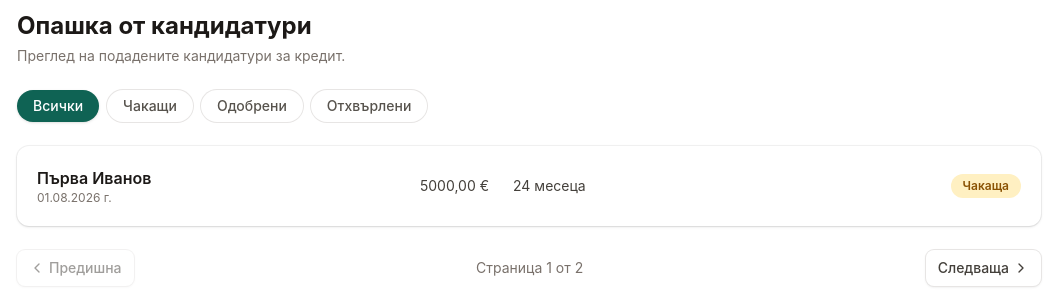
Test: AdminQueuePage › paginates to the next page and back to the previous one
Expected: the text "Първа Иванов" is shown, [37, 168, 151, 188]
Expected: the button "Предишна" is disabled, [17, 250, 134, 286]
What coordinates should you click on to do the following:
click the button "Следваща"
I would click on:
 (983, 268)
Its box is [926, 250, 1041, 286].
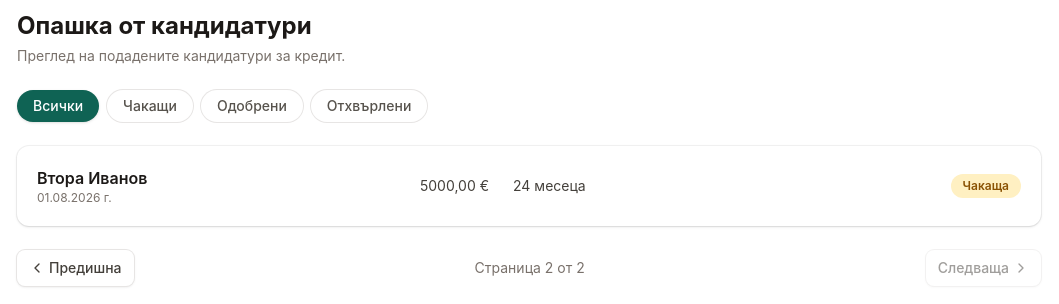
Expected: the text "Втора Иванов" is shown, [37, 168, 147, 188]
What coordinates should you click on to do the following:
click the button "Предишна"
I would click on:
 (75, 268)
Its box is [17, 250, 134, 286].
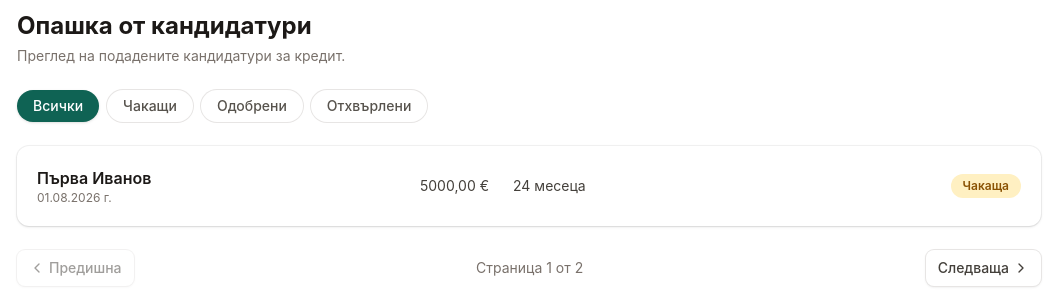
Expected: the text "Първа Иванов" is shown, [37, 168, 151, 188]
